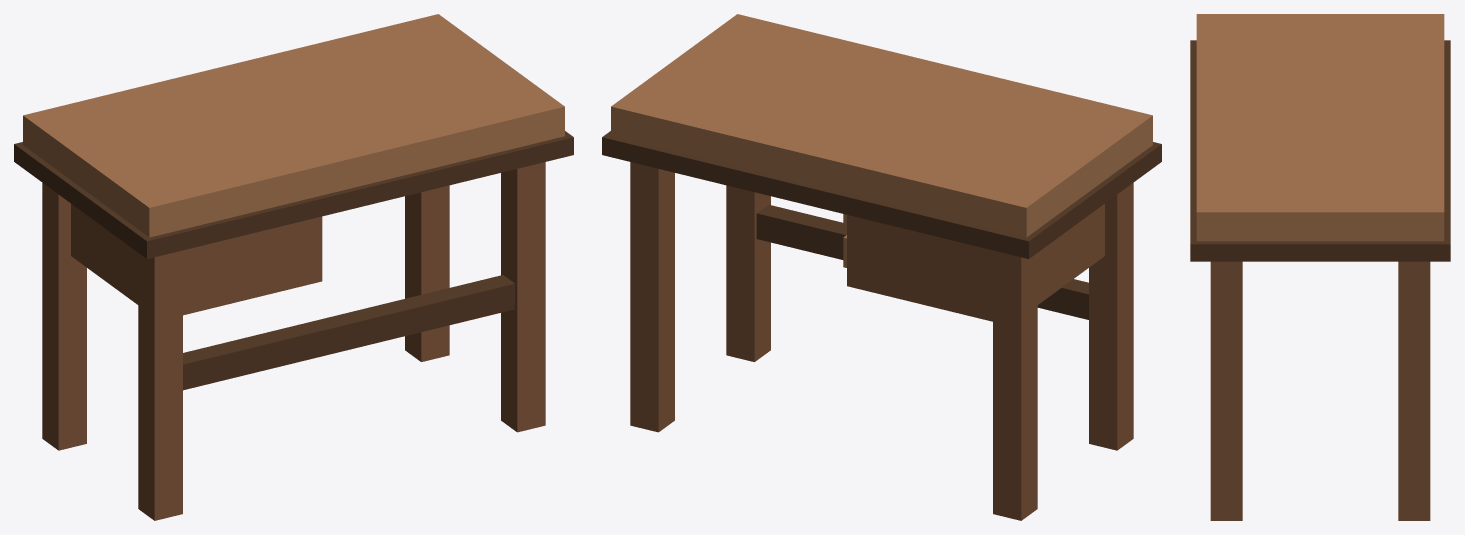
The model's file is desk.glb.
3 views of the same model, side by side, from view 1: azimuth 30°, elevation 25°; view 2: azimuth 150°, elevation 25°; view 3: azimuth 270°, elevation 25° (orthographic). The views are drawn at different scales.
Parts seen in each view (by area): view 1: 书桌桌面, 书桌桌腿 (×4), 桌下抽屉柜, 桌后横撑, 桌面木沿; view 2: 书桌桌面, 书桌桌腿 (×4), 桌下抽屉柜, 桌面木沿, 桌后横撑; view 3: 书桌桌面, 书桌桌腿 (×2), 桌面木沿.
Boxes of the visible parts, x1=… form: 书桌桌面: x1=23, y1=14, x2=564, y2=237; 书桌桌腿 (×4): x1=42, y1=162, x2=545, y2=520; 桌下抽屉柜: x1=71, y1=204, x2=322, y2=315; 桌后横撑: x1=183, y1=275, x2=514, y2=390; 桌面木沿: x1=14, y1=131, x2=573, y2=258; 书桌桌面: x1=611, y1=14, x2=1152, y2=237; 书桌桌腿 (×4): x1=630, y1=162, x2=1133, y2=520; 桌下抽屉柜: x1=847, y1=204, x2=1104, y2=321; 桌面木沿: x1=602, y1=131, x2=1161, y2=258; 桌后横撑: x1=756, y1=204, x2=1088, y2=319; 书桌桌面: x1=1196, y1=14, x2=1444, y2=241; 书桌桌腿 (×2): x1=1210, y1=261, x2=1430, y2=520; 桌面木沿: x1=1190, y1=40, x2=1450, y2=261.
Size of the model in its own units: 1.13 by 0.8125 by 0.61.
